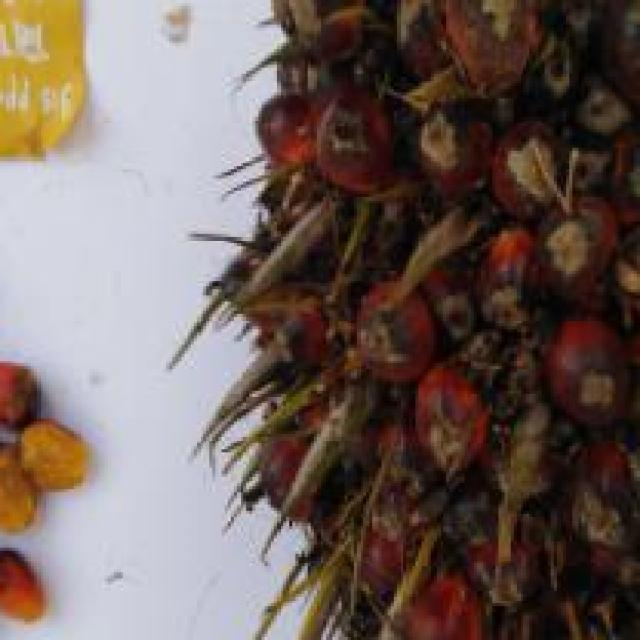underripe: (227, 0, 640, 640)
